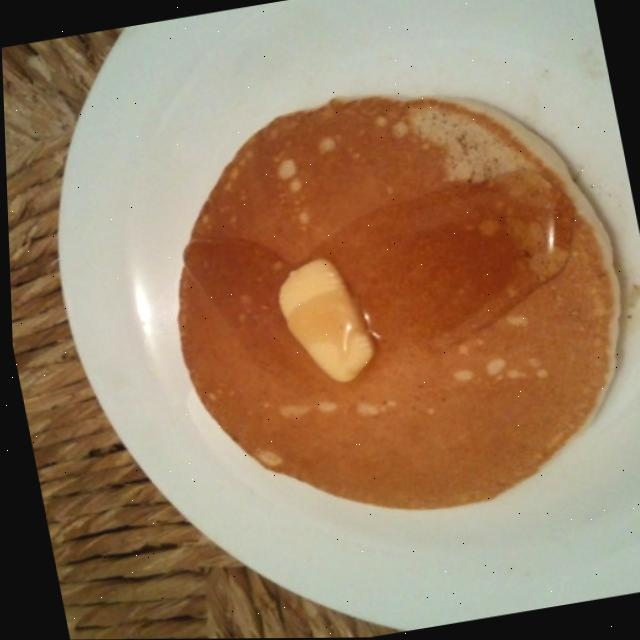蛋糕甜品: (84, 33, 640, 568)
